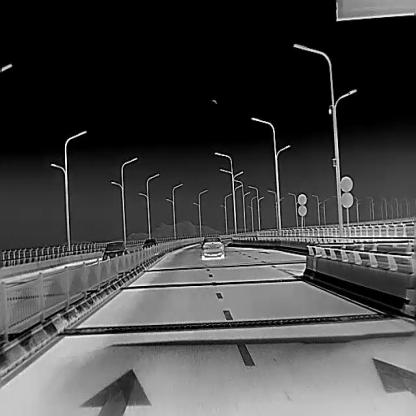car: (201, 235, 224, 258), (102, 241, 128, 259), (142, 237, 156, 246)
